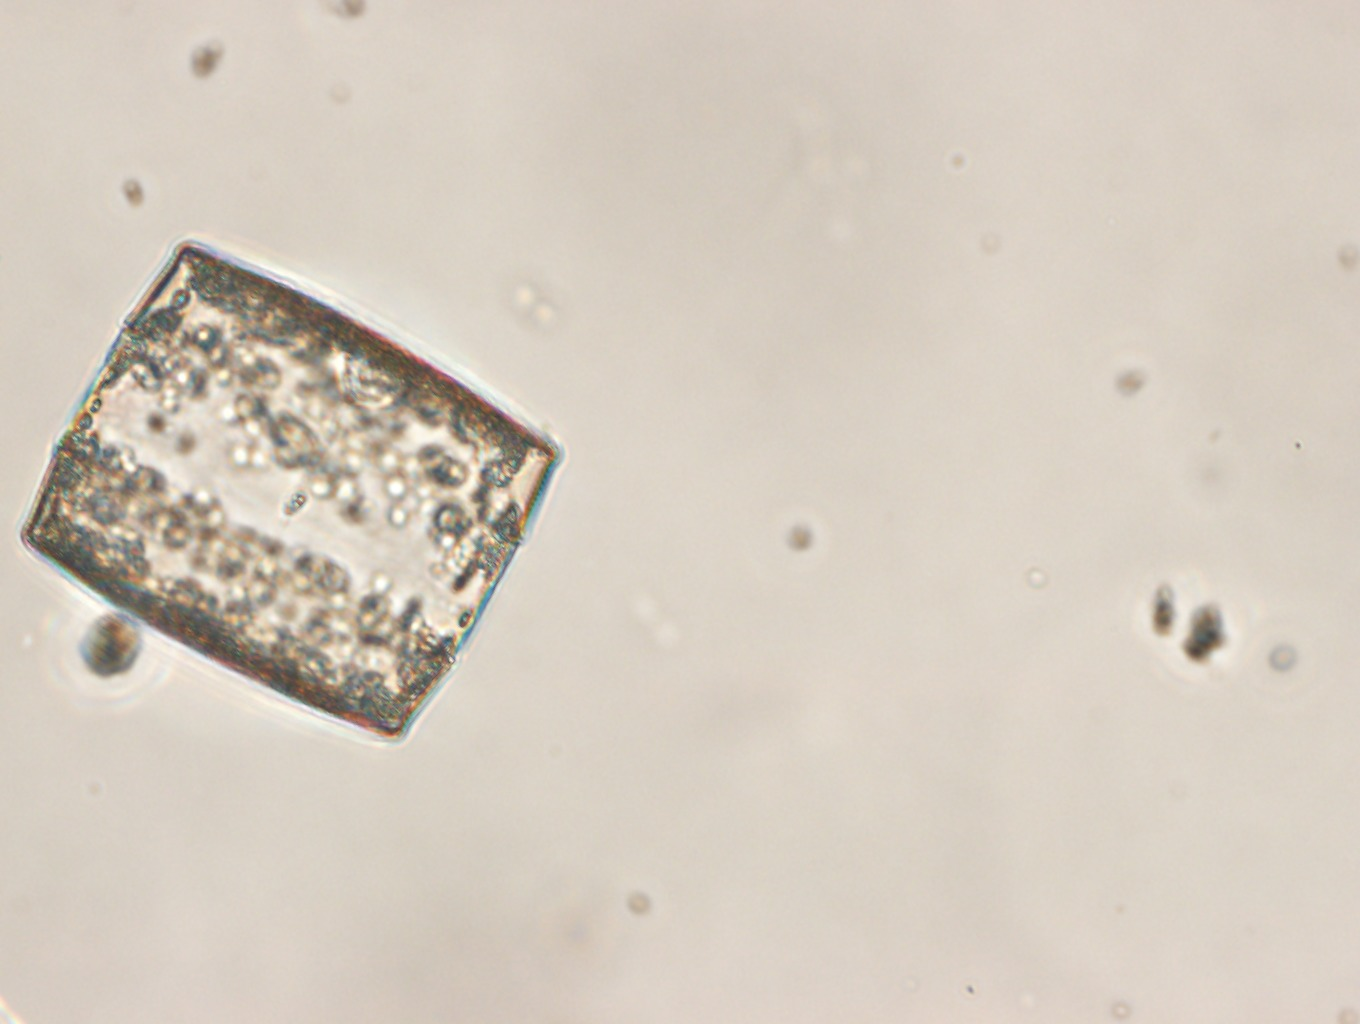coscinodiscus flank: (20, 241, 566, 742)
